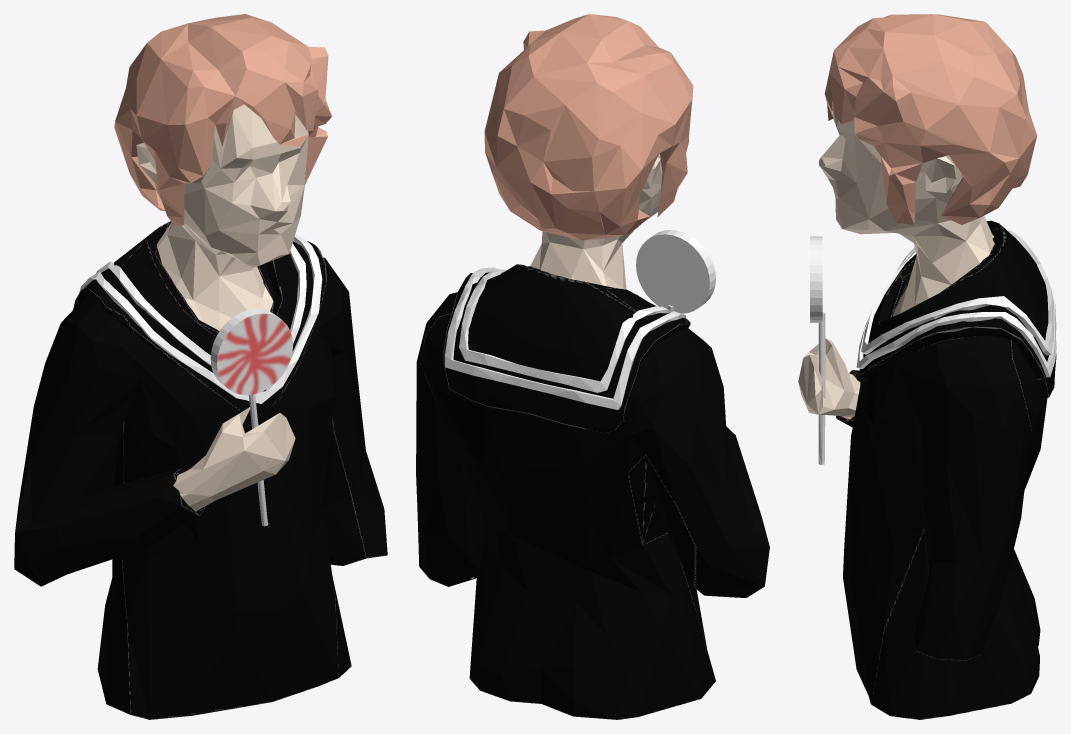
The model's file is kid.glb.
3 renders of one model, left to right at view 1: azimuth 30°, elevation 25°; view 2: azimuth 150°, elevation 25°; view 3: azimuth 270°, elevation 25°, orthographic. The views are drawn at different scales.
Visible parts, largest first — view 1: male_zbrush; view 2: male_zbrush; view 3: male_zbrush.
Part boxes in pixels (x1,y1,x2,y2): male_zbrush: [14, 14, 387, 719]; male_zbrush: [416, 14, 769, 719]; male_zbrush: [798, 14, 1056, 719].
Size of the model in its own units: 5.03 by 8.68 by 3.15.
Materials: 1 (1 with a texture image).
